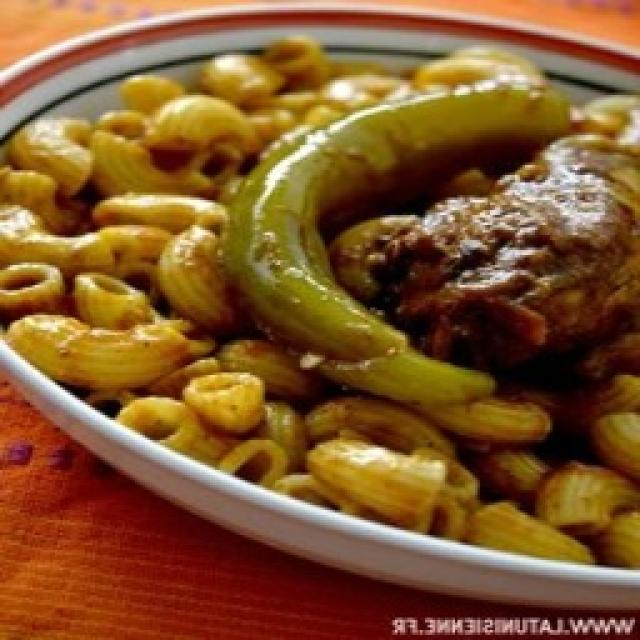Pasta: (0, 38, 640, 567)
